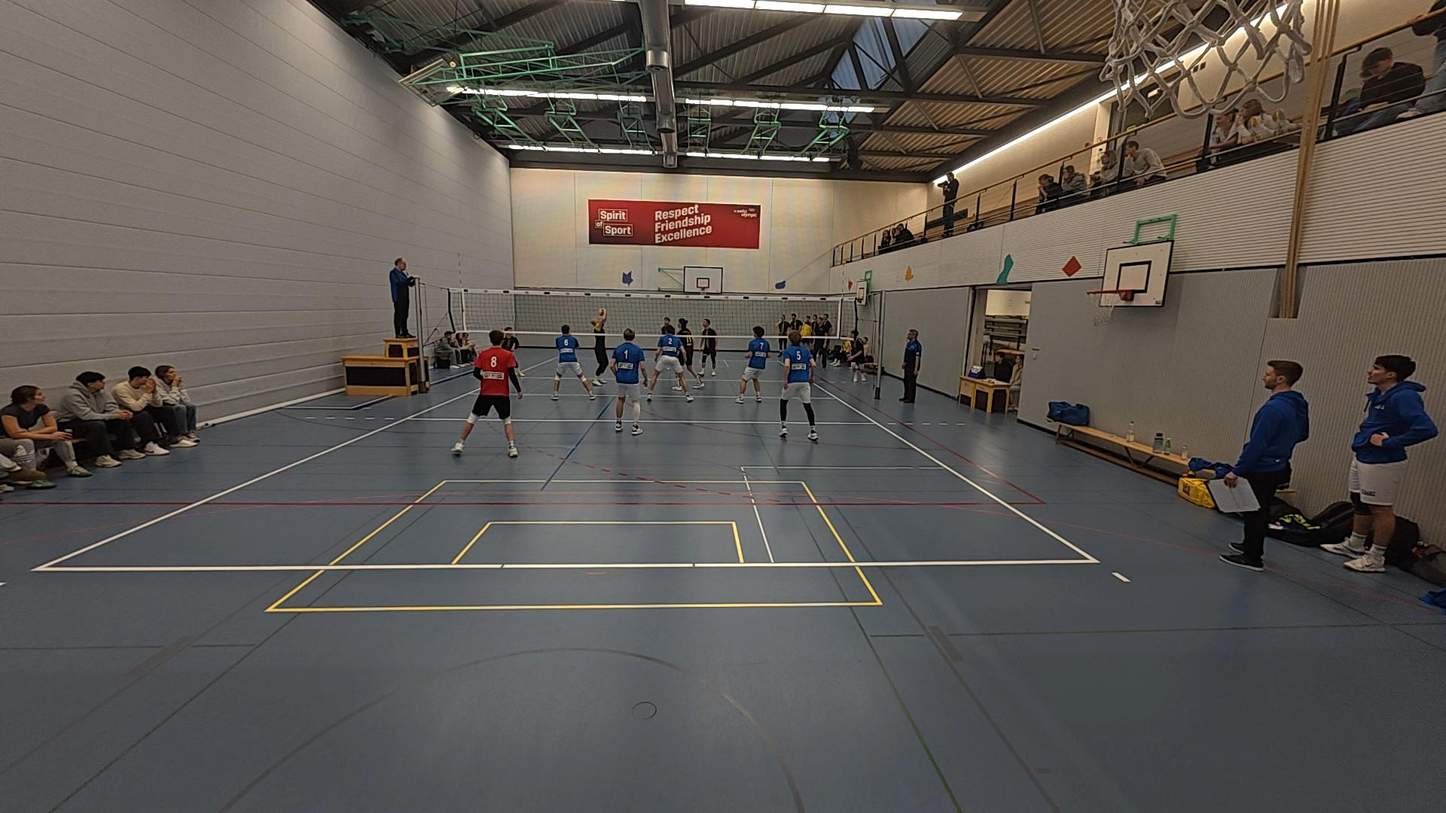Player: (452, 330, 523, 457), (776, 333, 818, 441), (606, 329, 645, 435), (646, 323, 692, 403), (551, 323, 594, 400), (736, 325, 770, 406), (670, 315, 701, 391), (499, 323, 525, 378), (696, 317, 716, 381), (848, 330, 868, 386), (651, 313, 674, 358)
Set: (589, 302, 608, 388)
ball: (596, 306, 609, 318)
